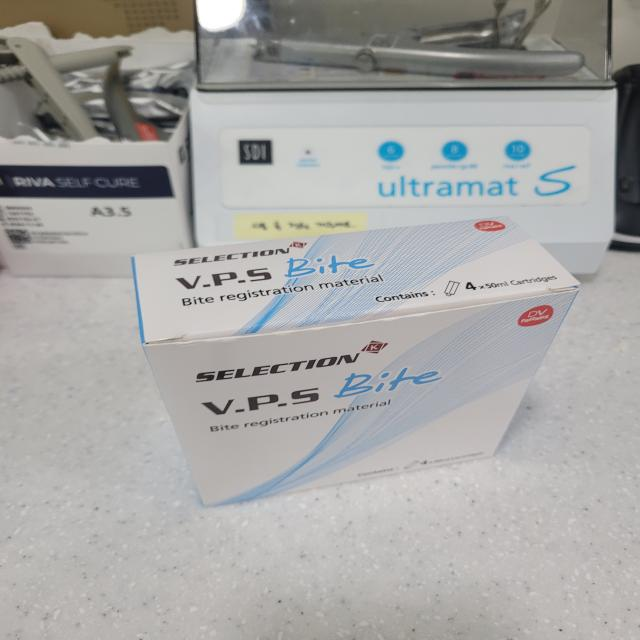impression: (93, 210, 594, 511)
